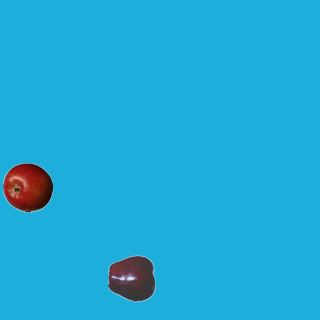Apple Braeburn: (2, 162, 52, 212)
Apple Red Delicious: (107, 253, 157, 303)
